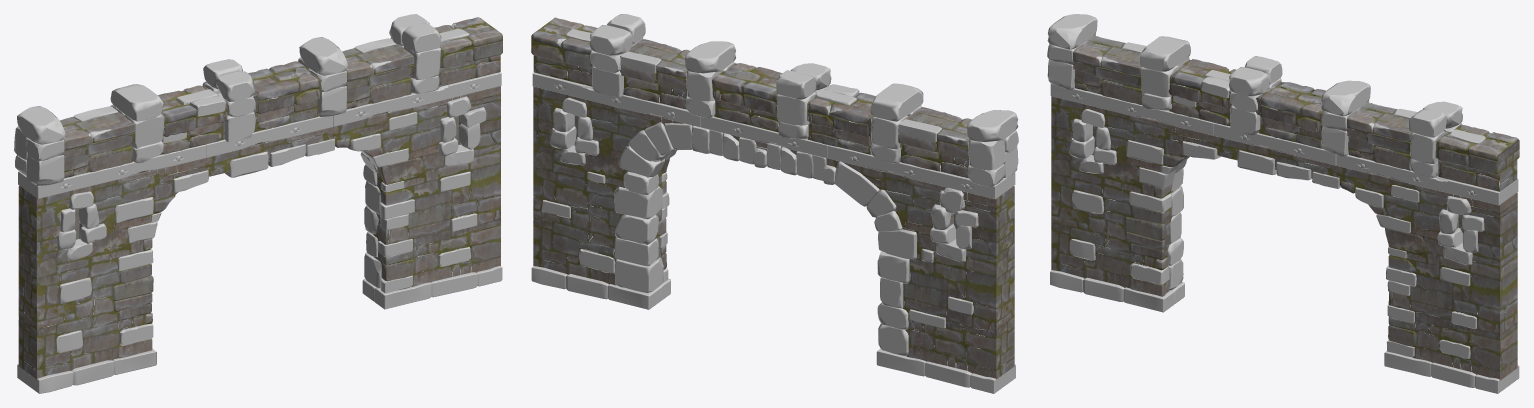
3 renders of one model, left to right at view 1: azimuth 30°, elevation 25°; view 2: azimuth 150°, elevation 25°; view 3: azimuth 330°, elevation 25°, orthographic. The views are drawn at different scales.
Visible parts, largest first — view 1: SM_Castle_Wall_Door_11x6_01_v1_LOD0; view 2: SM_Castle_Wall_Door_11x6_01_v1_LOD0; view 3: SM_Castle_Wall_Door_11x6_01_v1_LOD0.
Part boxes in pixels (box(x1,y1,x2,y2)): SM_Castle_Wall_Door_11x6_01_v1_LOD0: box(14, 14, 502, 393); SM_Castle_Wall_Door_11x6_01_v1_LOD0: box(531, 14, 1018, 393); SM_Castle_Wall_Door_11x6_01_v1_LOD0: box(1047, 14, 1519, 393).
Bounding box in the file's own units: 11.05 × 6.06 × 1.15.
